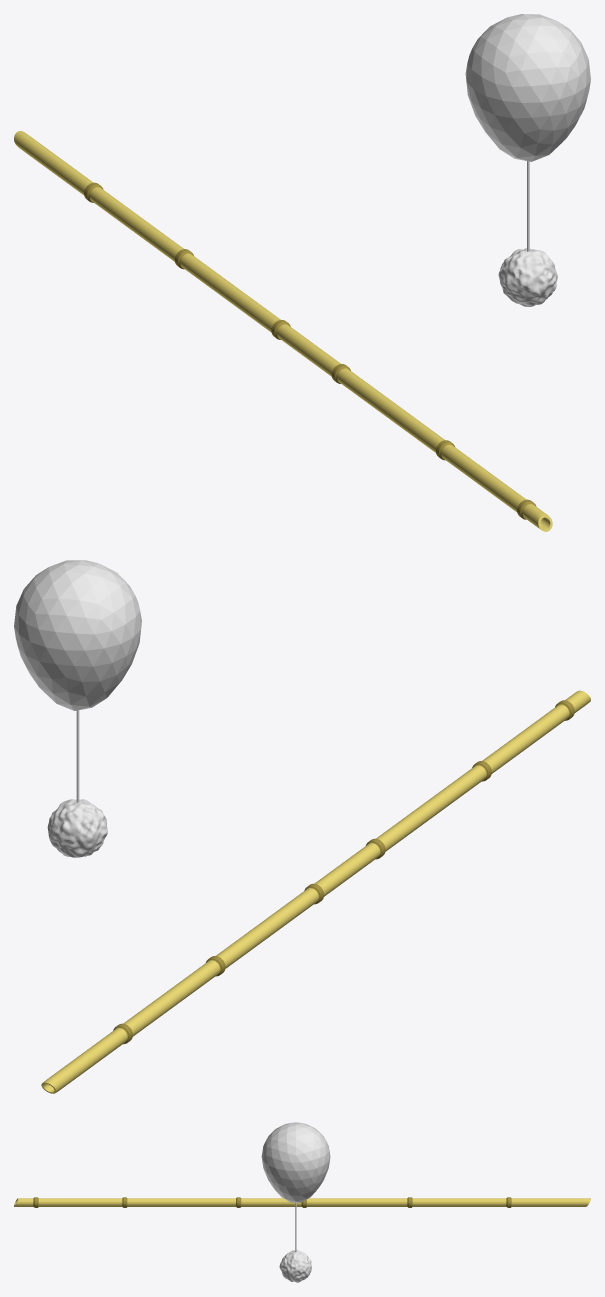
File: Balloon.fbx
3 renders of one model, top to bottom at view 1: azimuth 30°, elevation 25°; view 2: azimuth 150°, elevation 25°; view 3: azimuth 270°, elevation 25°, orthographic. The views are drawn at different scales.
Parts seen in each view (by area): view 1: Icosphere, Cylinder, Boulder; view 2: Icosphere, Cylinder, Boulder; view 3: Cylinder, Icosphere, Boulder.
Part boxes in pixels (bbox=[...]): Icosphere: bbox=[465, 14, 590, 161]; Cylinder: bbox=[14, 131, 552, 531]; Boulder: bbox=[498, 248, 557, 306]; Icosphere: bbox=[14, 560, 141, 710]; Cylinder: bbox=[41, 690, 590, 1093]; Boulder: bbox=[47, 799, 107, 857]; Cylinder: bbox=[14, 1198, 590, 1206]; Icosphere: bbox=[261, 1122, 330, 1202]; Boulder: bbox=[279, 1250, 311, 1282].
Bounding box in the file's own units: 1233 × 1113 × 3733.
